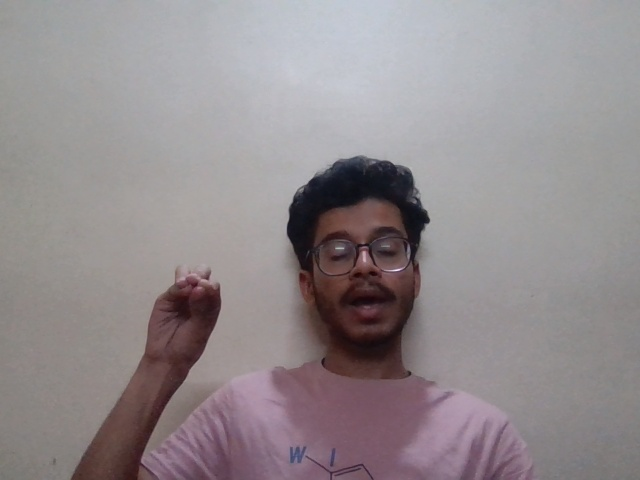talk: (136, 259, 234, 375)
